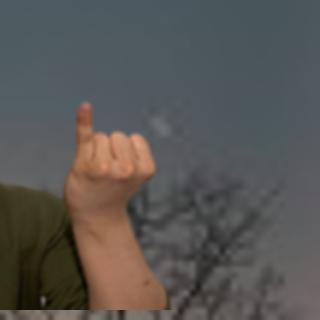FINE: (61, 99, 158, 221)
